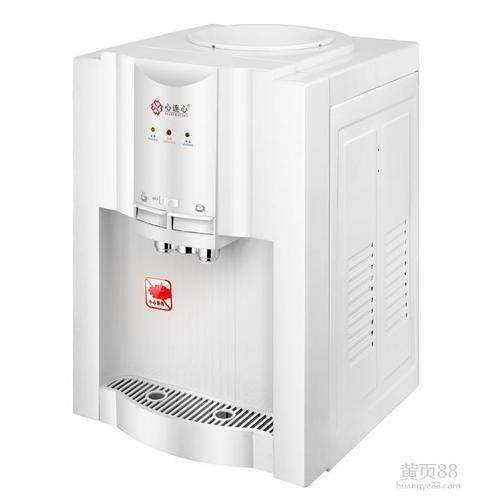Dispenser: (73, 23, 419, 486)
